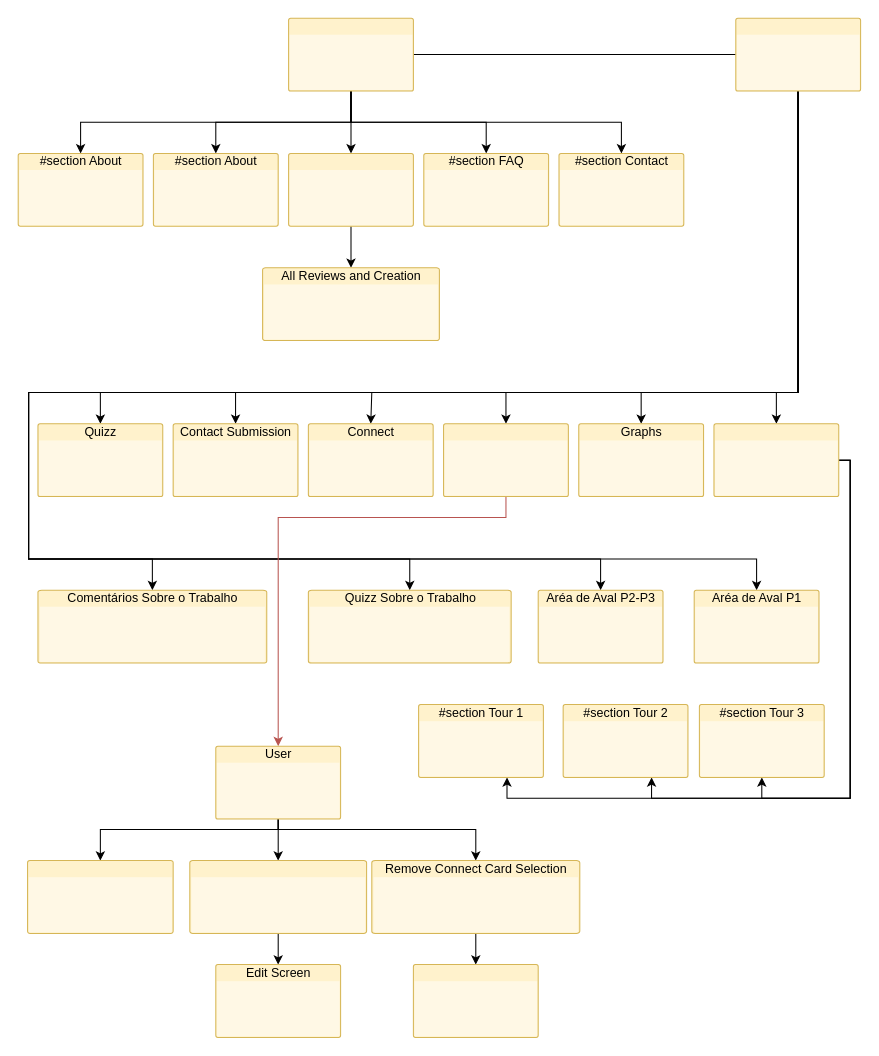
Image size: 879x1056. Some labels were removed from this diagram. The shapes that lost their labels are listed below. From the top down, each one's centre as x and y in pixels, then its label:
the point at 350,54: Index
the point at 798,54: Avaliação
the point at 350,189: #section Reviews
the point at 505,460: Log In
the point at 776,460: SPA - Tour Showcase
the point at 100,896: Connect Card Creation
the point at 278,896: Edit Connect Card Selection
the point at 475,1000: Confirmation Screen
